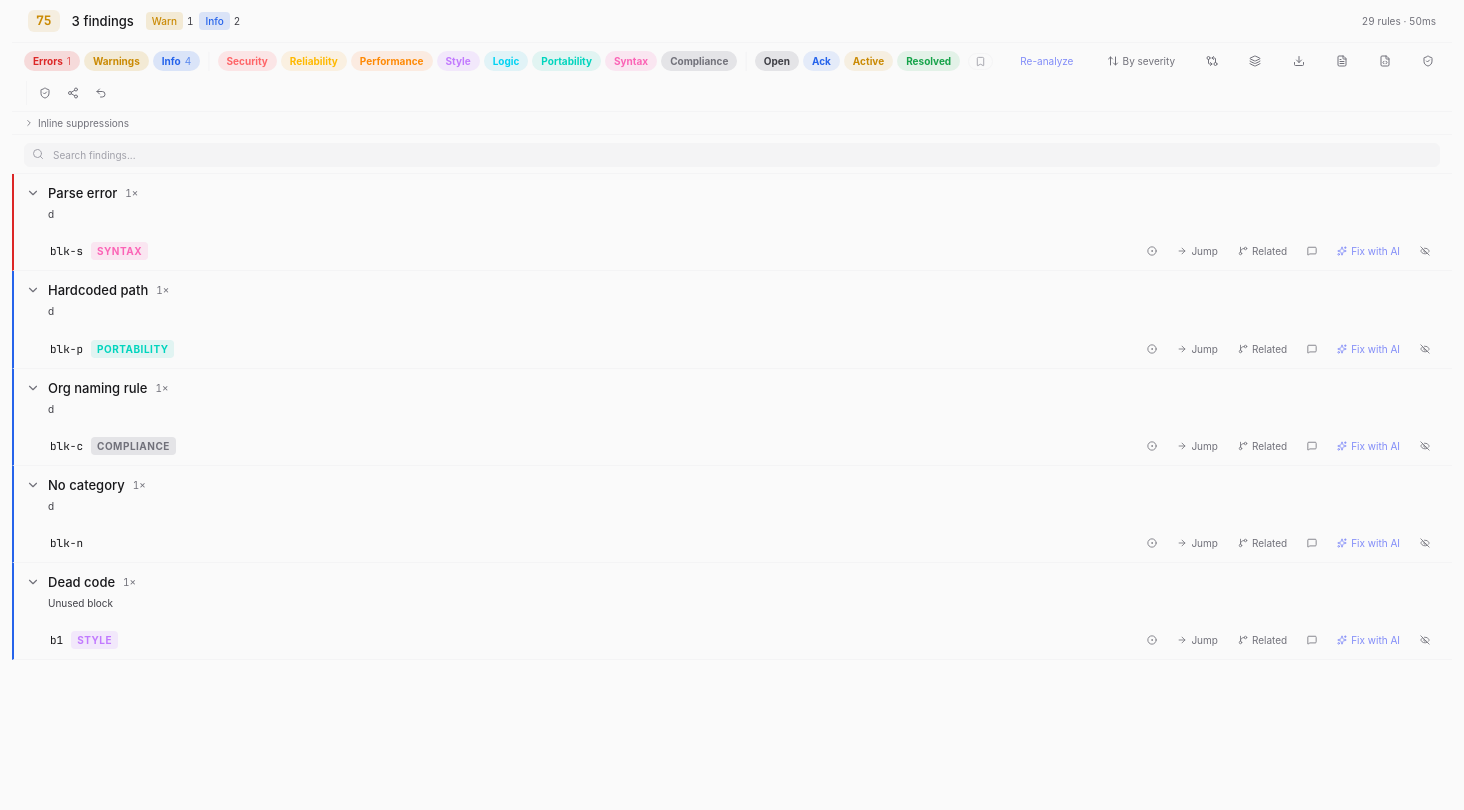
Test case: categories and preview findings › hides only the category the user turned off, and shows it again
expect the text "Hardcoded path" is shown: met, box top-left (48, 281), bottom-right (148, 299)
Click the button "Portability". click: {"x": 567, "y": 61}
box: top-left (532, 51), bottom-right (601, 71)
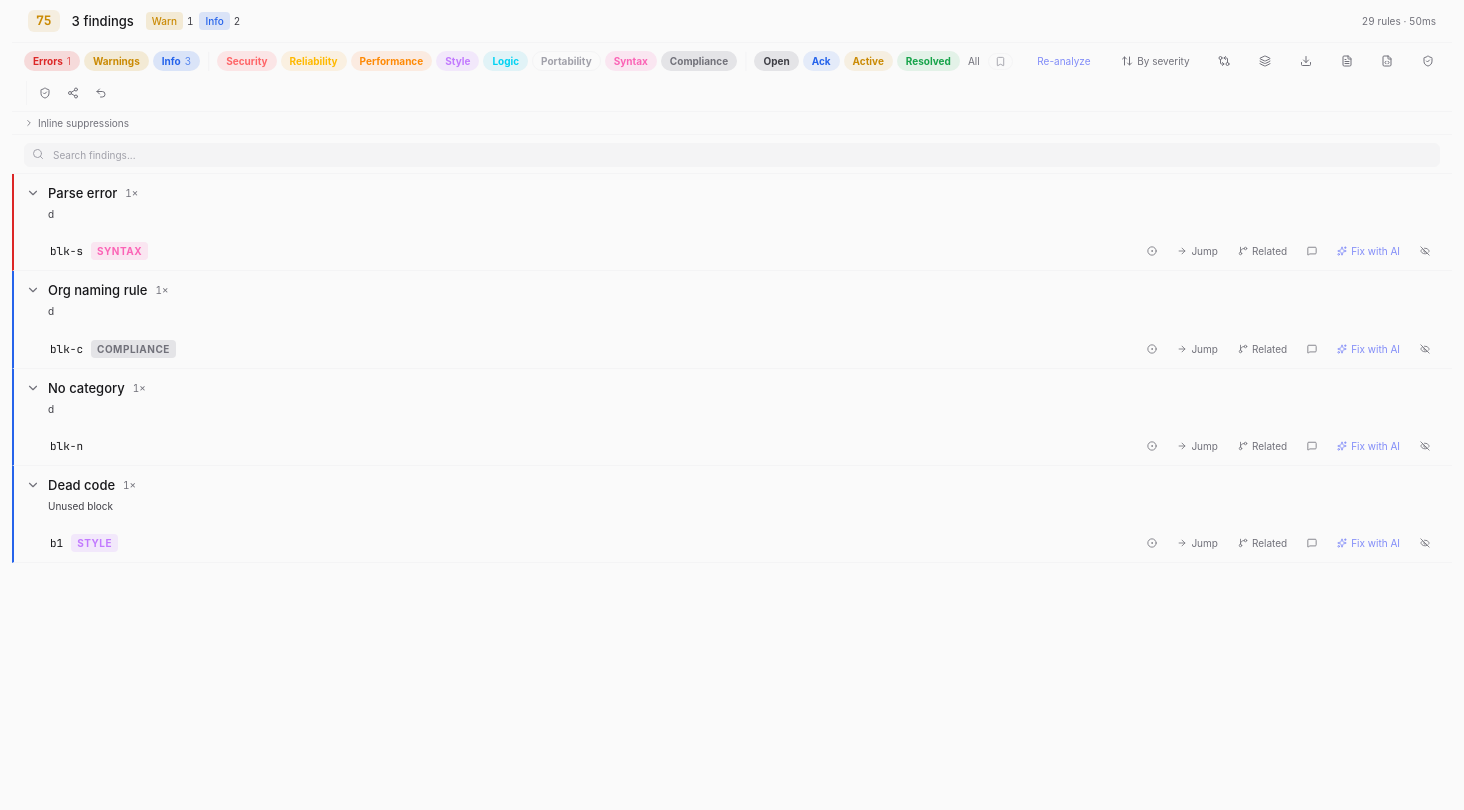
expect the text "Parse error" is shown: met, box top-left (48, 184), bottom-right (117, 202)
expect the button "Hardcoded path" is gone: met
Click the button "Compliance". click: {"x": 699, "y": 61}
box: top-left (661, 51), bottom-right (737, 71)
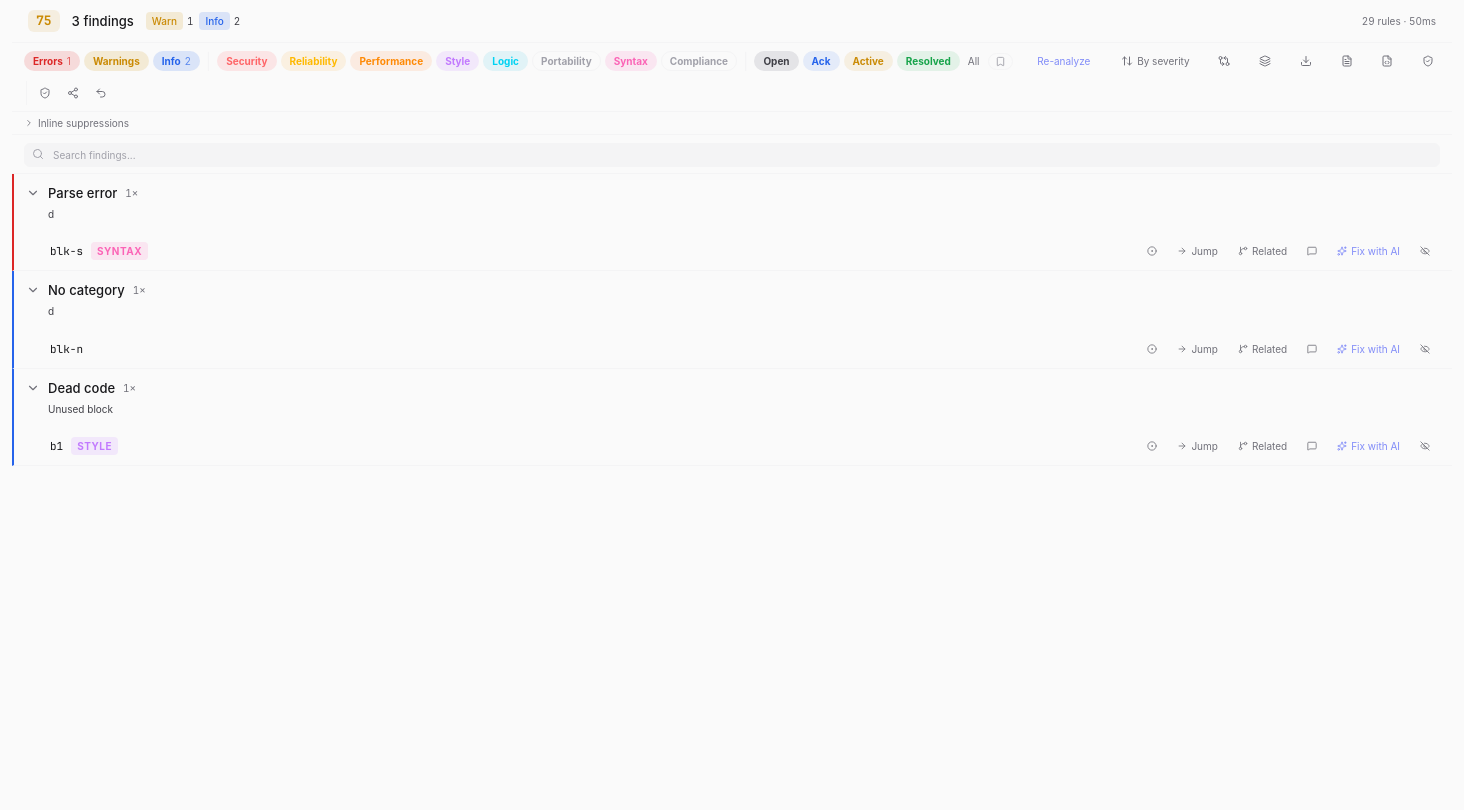
expect the button "Org naming rule" is gone: met
Click the button "All". click: {"x": 974, "y": 61}
box: top-left (968, 54), bottom-right (980, 68)
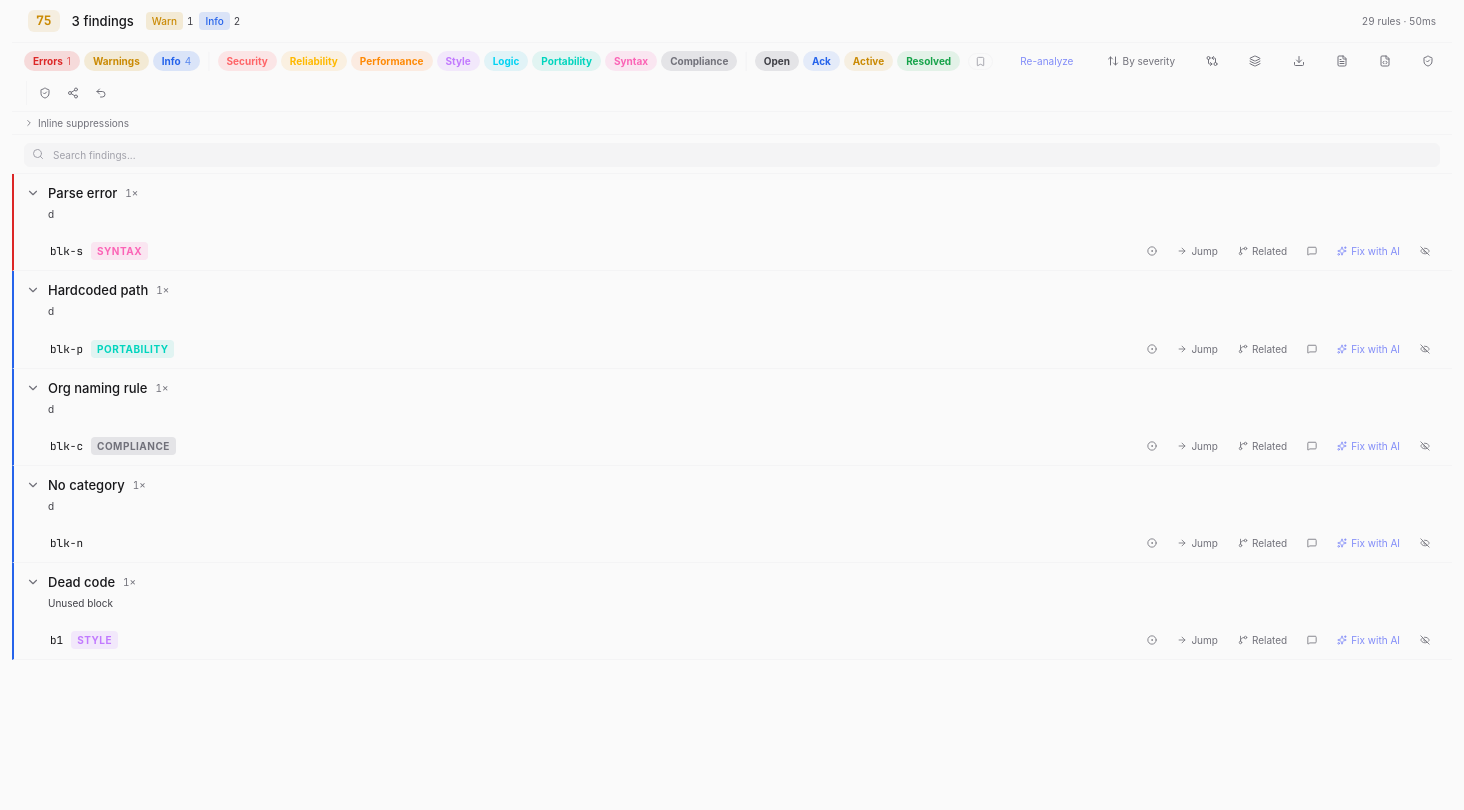
expect the text "Parse error" is shown: met, box top-left (48, 184), bottom-right (117, 202)
expect the text "Hardcoded path" is shown: met, box top-left (48, 281), bottom-right (148, 299)
expect the text "Org naming rule" is shown: met, box top-left (48, 378), bottom-right (147, 396)
